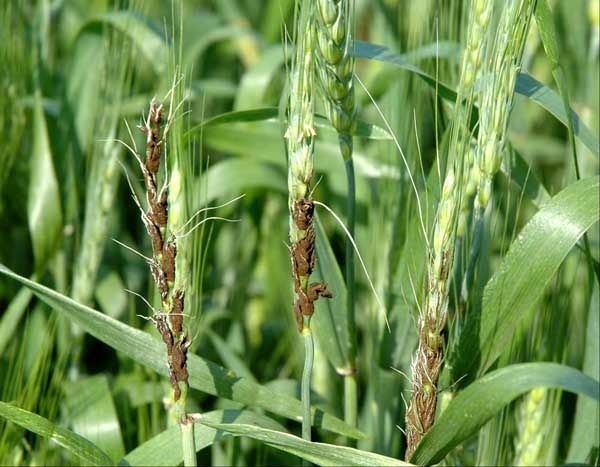Wheat Loose Smut: (276, 189, 454, 431), (122, 106, 215, 393)
